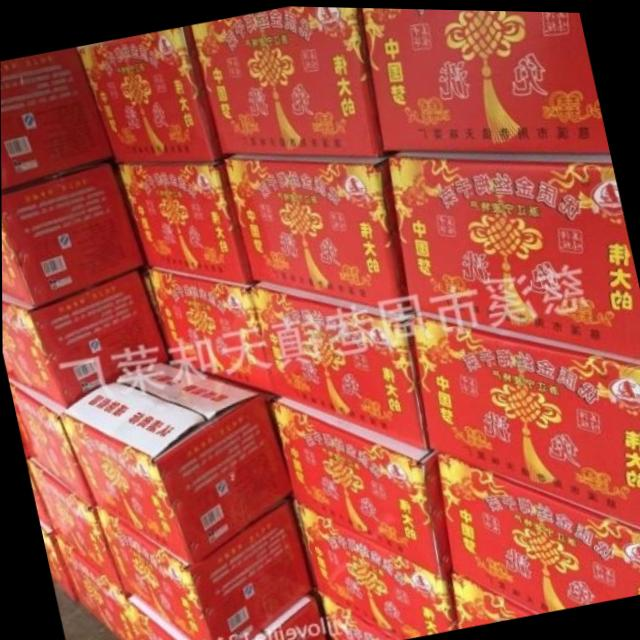box: (385, 151, 640, 356), (407, 311, 640, 523), (60, 355, 292, 562), (361, 6, 610, 152), (434, 449, 640, 608), (273, 394, 450, 578), (94, 496, 312, 640), (222, 151, 408, 312), (252, 284, 429, 448), (189, 5, 383, 153), (2, 267, 166, 407), (293, 497, 452, 635), (1, 165, 143, 304), (79, 25, 222, 163), (114, 156, 250, 283), (142, 266, 272, 391), (0, 49, 113, 189), (27, 459, 126, 594), (9, 378, 90, 504), (54, 538, 134, 640), (450, 571, 536, 624), (242, 590, 327, 640), (315, 592, 389, 640), (41, 527, 77, 607), (29, 458, 54, 540)
